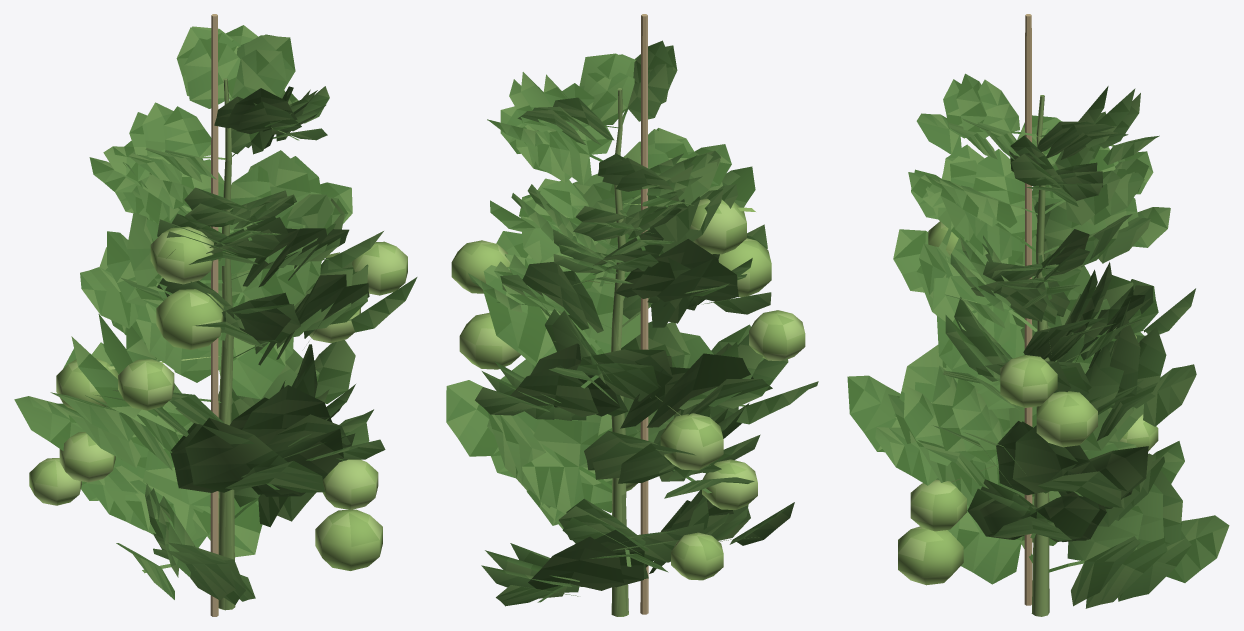
Rendered from tomate_coeur_vert.glb.
The picture shows the model from 3 angles, left to right: view 1: azimuth 30°, elevation 25°; view 2: azimuth 150°, elevation 25°; view 3: azimuth 270°, elevation 25°; orthographic projection.
Parts seen in each view (by area): view 1: Tomate_Feuilles, Tomate_Fruits, Tomate_Tige, Tomate_Tuteur; view 2: Tomate_Feuilles, Tomate_Fruits, Tomate_Tige, Tomate_Tuteur; view 3: Tomate_Feuilles, Tomate_Fruits, Tomate_Tige, Tomate_Tuteur.
Part boxes in pixels (x1,y1,x2,y2): Tomate_Feuilles: (14,25,417,604); Tomate_Fruits: (29,226,407,570); Tomate_Tige: (218,78,235,610); Tomate_Tuteur: (210,14,218,616); Tomate_Feuilles: (446,40,818,606); Tomate_Fruits: (451,198,805,580); Tomate_Tige: (611,88,628,616); Tomate_Tuteur: (640,14,648,614); Tomate_Feuilles: (847,73,1229,608); Tomate_Fruits: (898,200,1158,585); Tomate_Tige: (1031,95,1049,616); Tomate_Tuteur: (1024,14,1032,605).
Size of the model in its own units: 0.6068 by 0.9803 by 0.5761.
